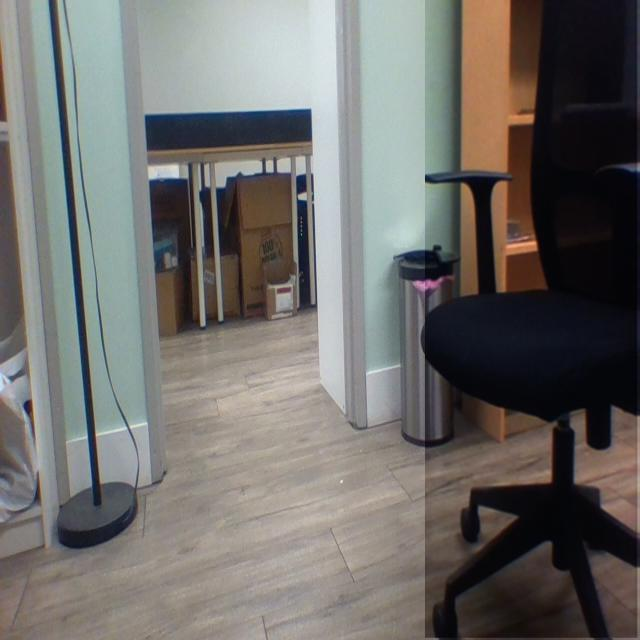chair: (425, 1, 639, 640)
